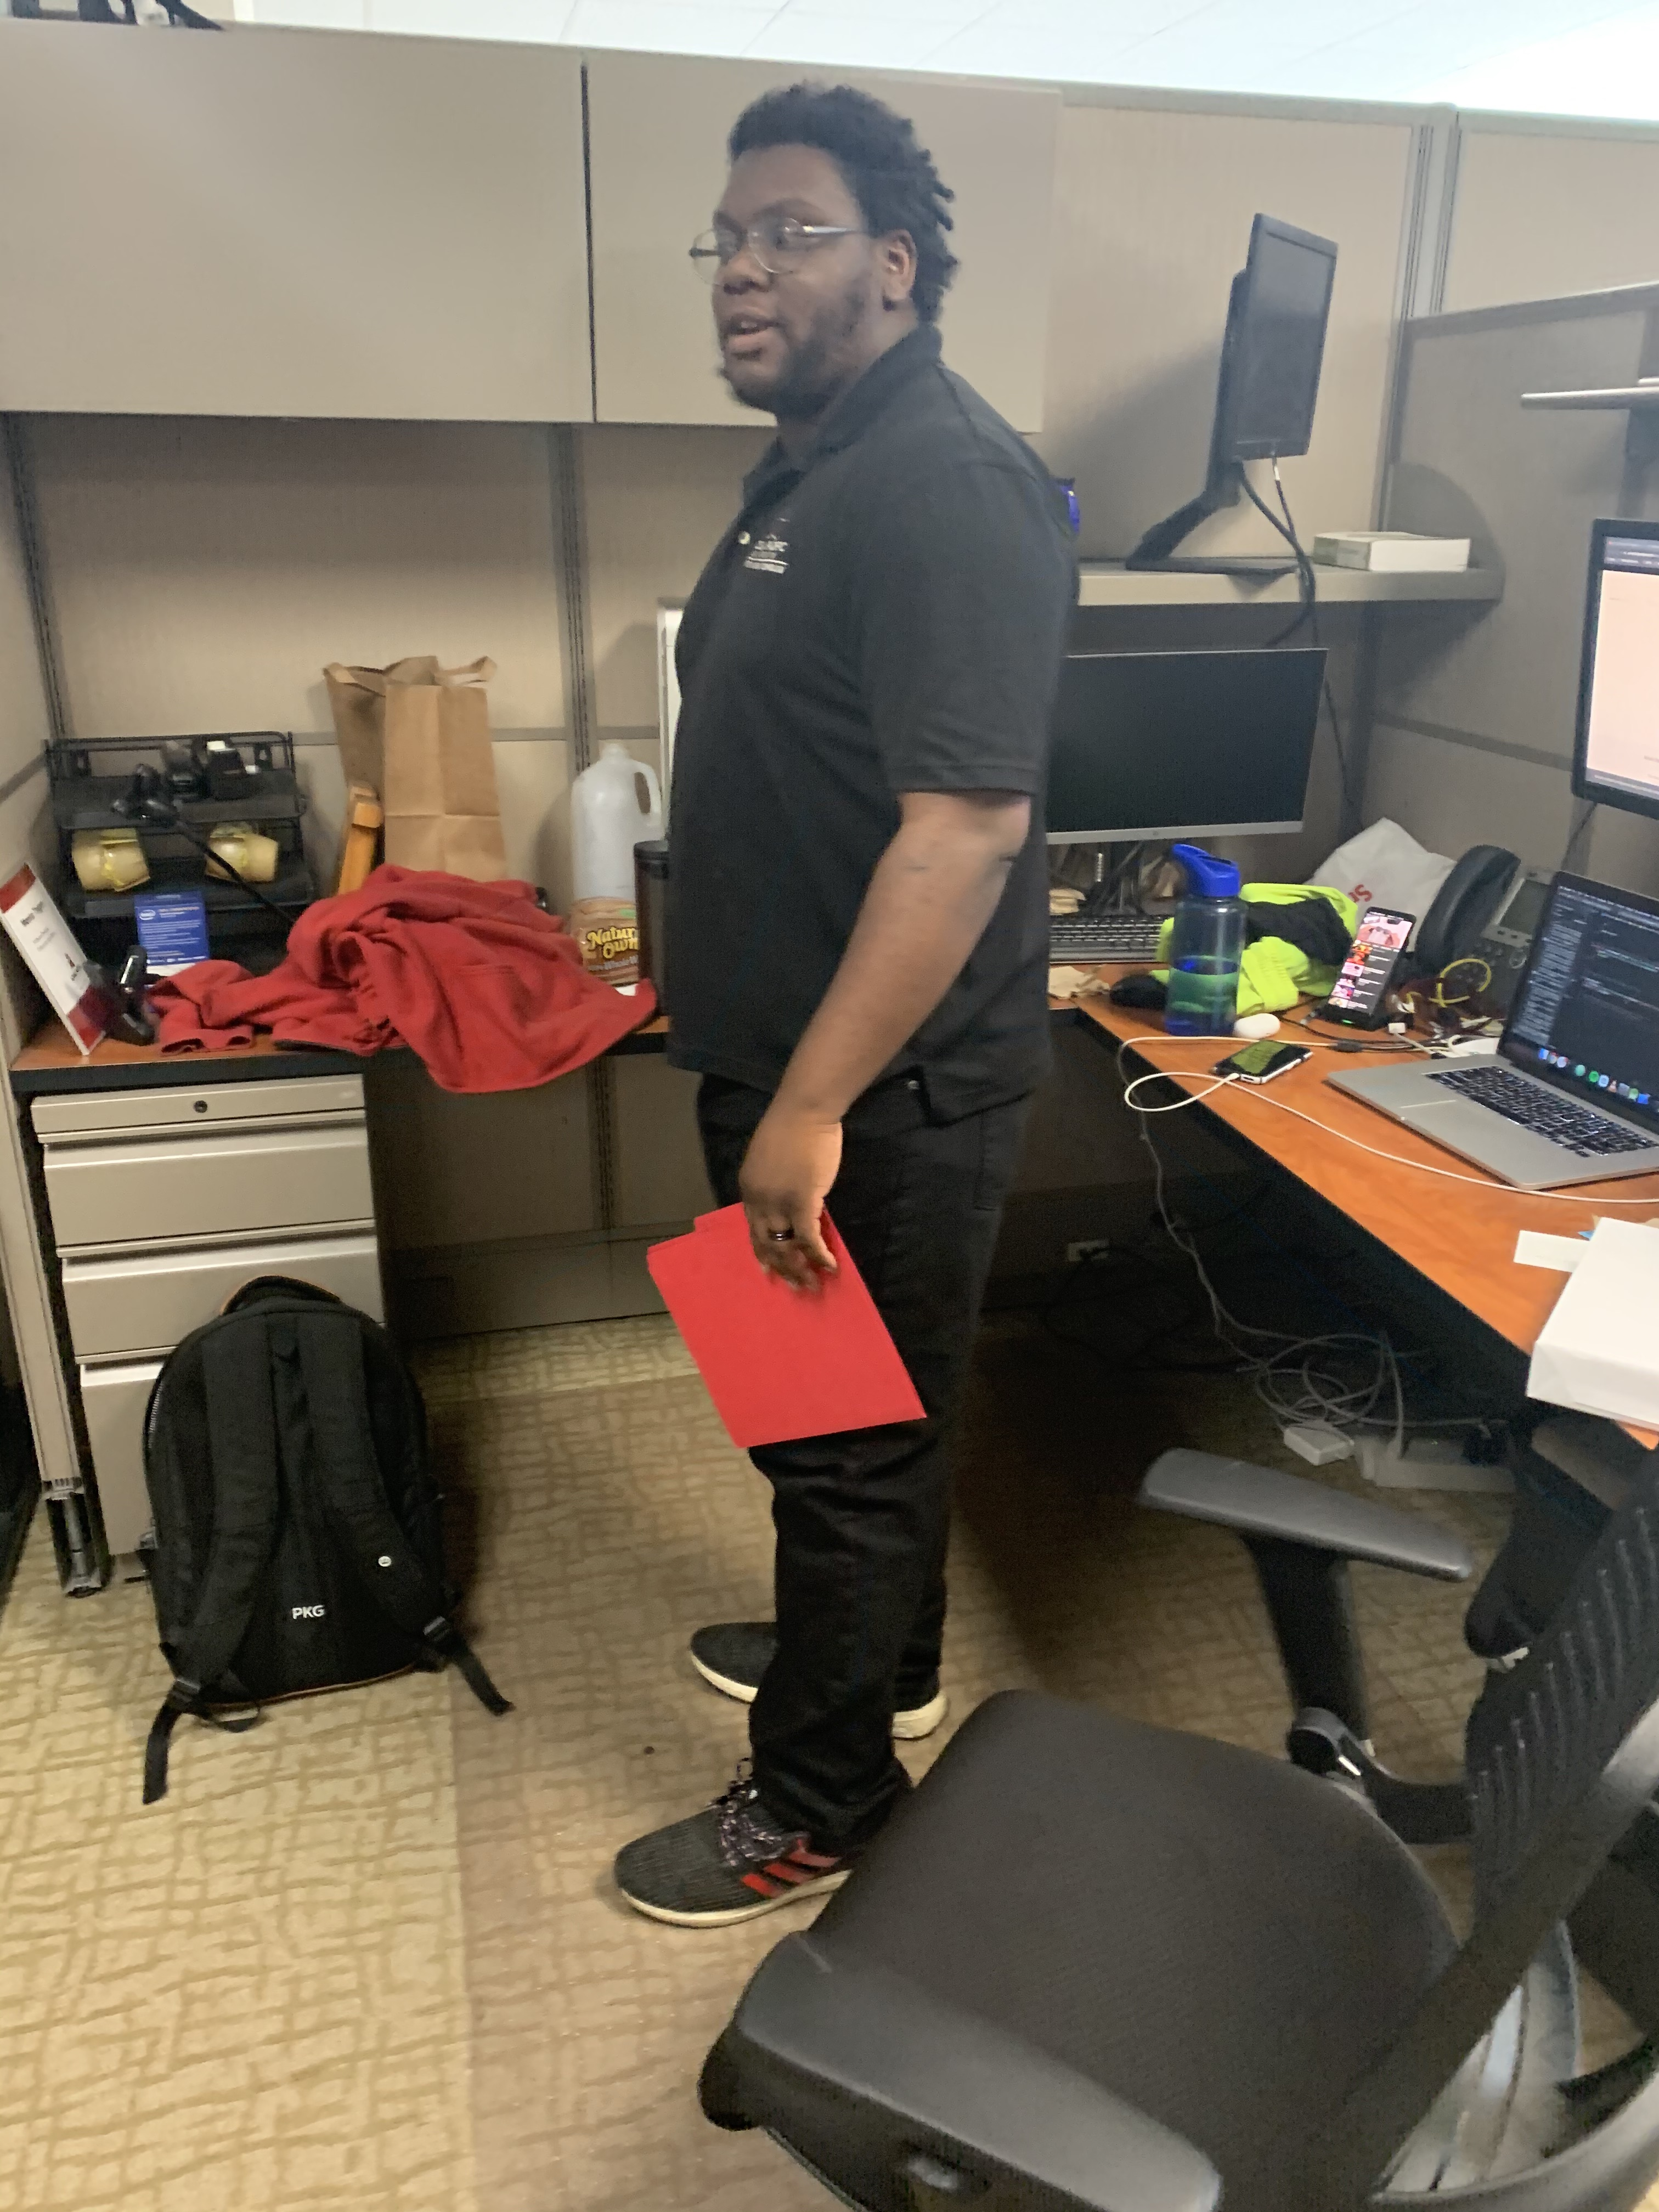red folder: (627, 1209, 957, 1461)
